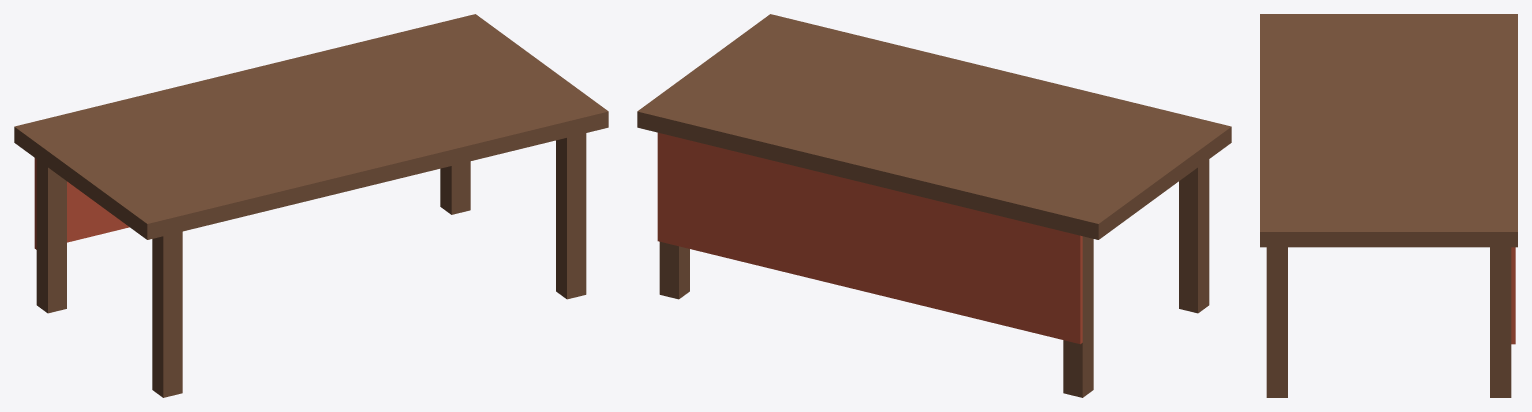
Rendered from prop_stall_3_table.glb.
3 renders of one model, left to right at view 1: azimuth 30°, elevation 25°; view 2: azimuth 150°, elevation 25°; view 3: azimuth 270°, elevation 25°, orthographic. The views are drawn at different scales.
Visible parts, largest first — view 1: PROP_Stall_3_Table; view 2: PROP_Stall_3_Table; view 3: PROP_Stall_3_Table.
Part boxes in pixels (left/top/right/bottom): PROP_Stall_3_Table: left=14, top=14, right=608, bottom=397; PROP_Stall_3_Table: left=637, top=14, right=1231, bottom=397; PROP_Stall_3_Table: left=1260, top=14, right=1517, bottom=397.
Bounding box in the file's own units: 2.4 × 0.9 × 1.2.
